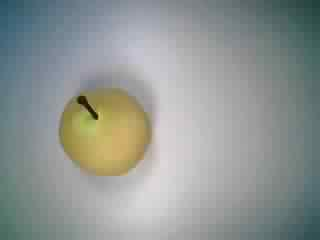pear: (45, 74, 163, 182)
